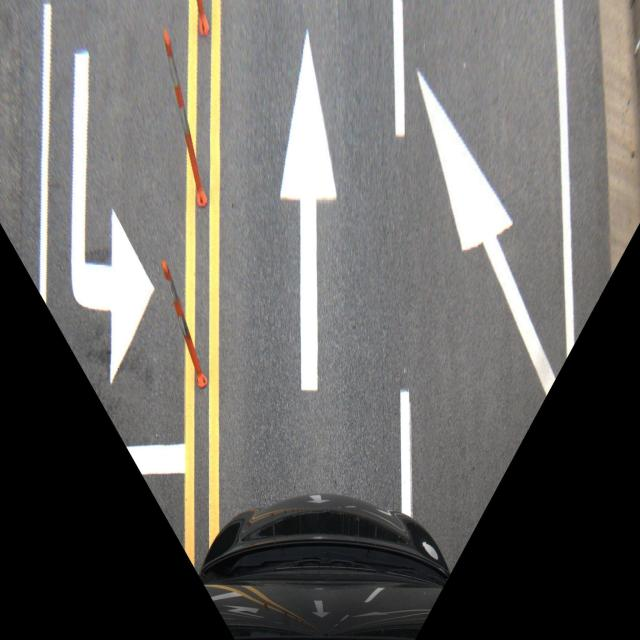chang_lane_left: (387, 57, 597, 460)
forward: (210, 19, 410, 450)
